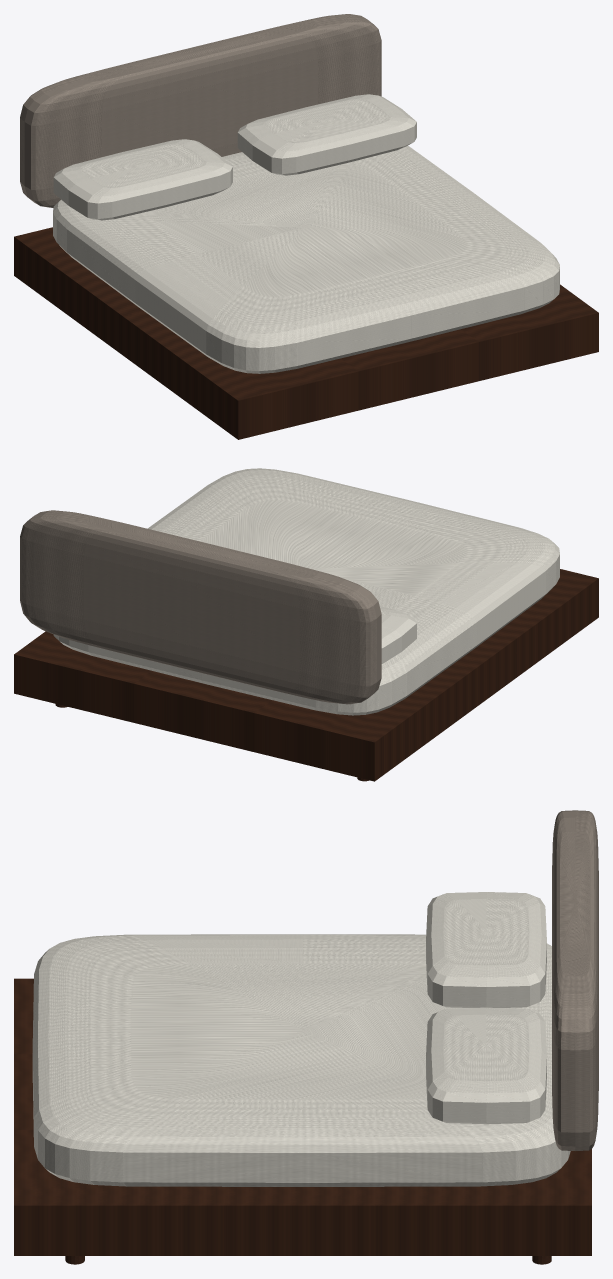
The model's file is bed-180_lod1.glb.
The picture shows the model from 3 angles, top to bottom: view 1: azimuth 30°, elevation 25°; view 2: azimuth 150°, elevation 25°; view 3: azimuth 270°, elevation 25°; orthographic projection. The views are drawn at different scales.
Visible parts, largest first — view 1: mattress, frame, headboard, pillow_1, pillow_2; view 2: headboard, mattress, frame, pillow_1; view 3: mattress, frame, headboard, pillow_2, pillow_1.
Part boxes in pixels (x1=…): mattress: x1=53, y1=145, x2=559, y2=373; frame: x1=14, y1=227, x2=598, y2=439; headboard: x1=20, y1=14, x2=381, y2=207; pillow_1: x1=53, y1=139, x2=232, y2=220; pillow_2: x1=237, y1=94, x2=416, y2=175; headboard: x1=20, y1=510, x2=381, y2=704; mattress: x1=53, y1=468, x2=559, y2=715; frame: x1=14, y1=569, x2=598, y2=781; pillow_1: x1=379, y1=606, x2=416, y2=663; mattress: x1=32, y1=934, x2=570, y2=1186; frame: x1=14, y1=978, x2=591, y2=1255; headboard: x1=552, y1=810, x2=598, y2=1150; pillow_2: x1=426, y1=1007, x2=546, y2=1124; pillow_1: x1=426, y1=892, x2=546, y2=1007.
Bounding box in the file's own units: 2 × 1.08 × 2.18.
Materials: 3 (3 with a texture image).
